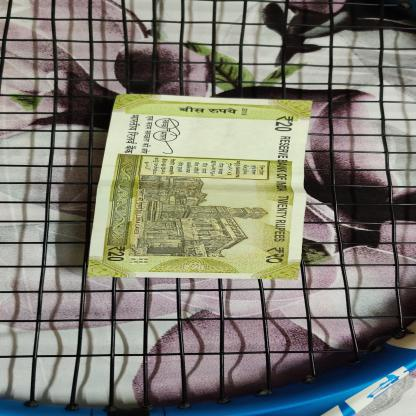New20Back: (86, 93, 316, 280)
